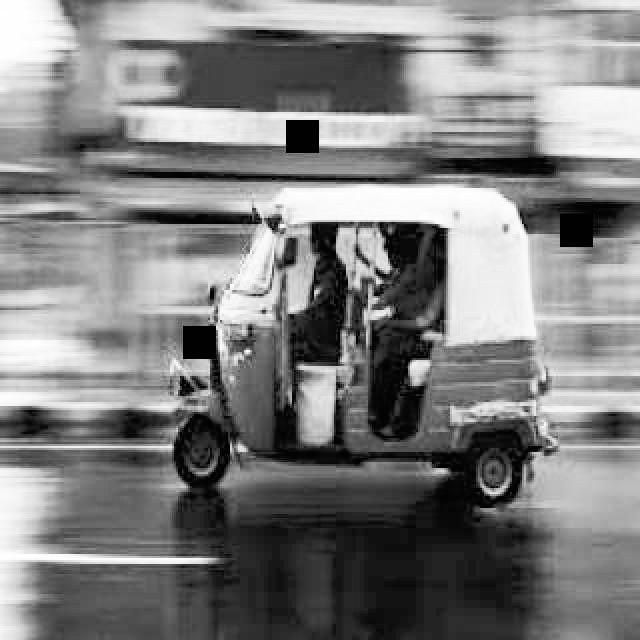Auto-Rickshaw: (194, 166, 574, 508)
